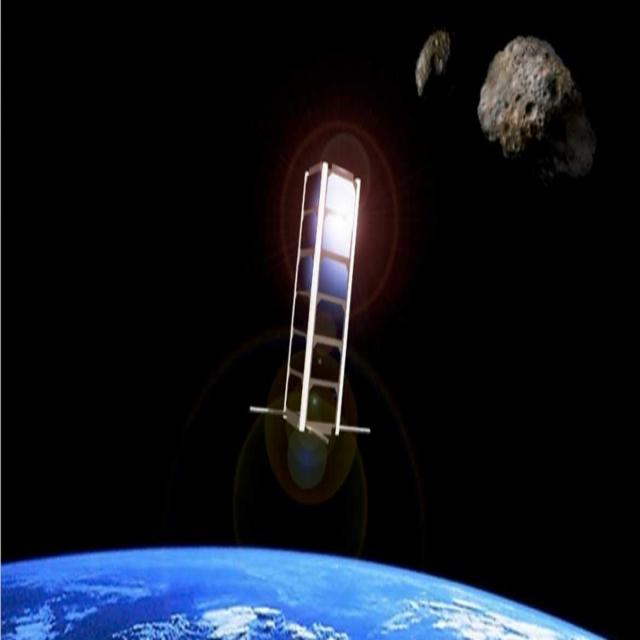medium_debris: (254, 146, 384, 456)
